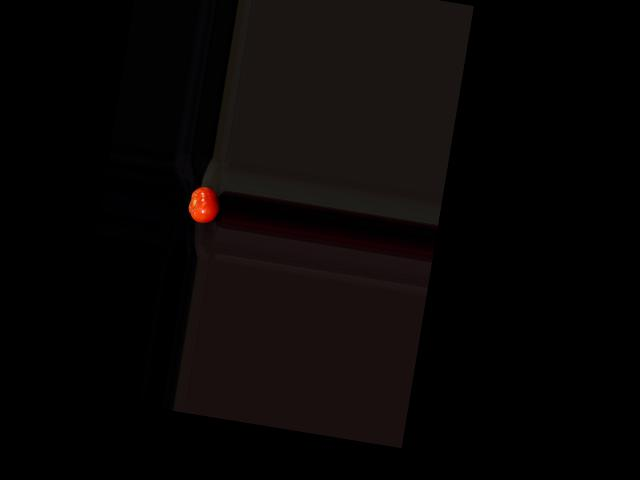tomato: (186, 185, 221, 226)
